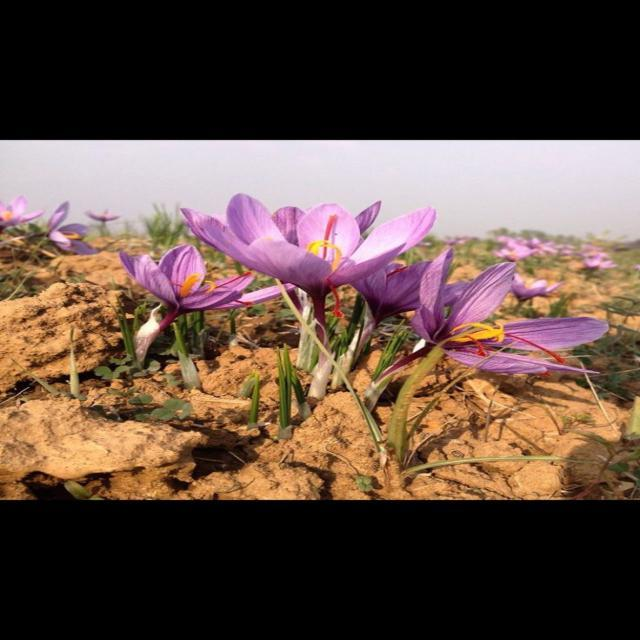Flower: (366, 260, 616, 384), (176, 192, 434, 290), (100, 249, 280, 320), (0, 192, 103, 255), (84, 210, 120, 224)
stigma: (496, 317, 576, 371), (316, 205, 348, 257)
